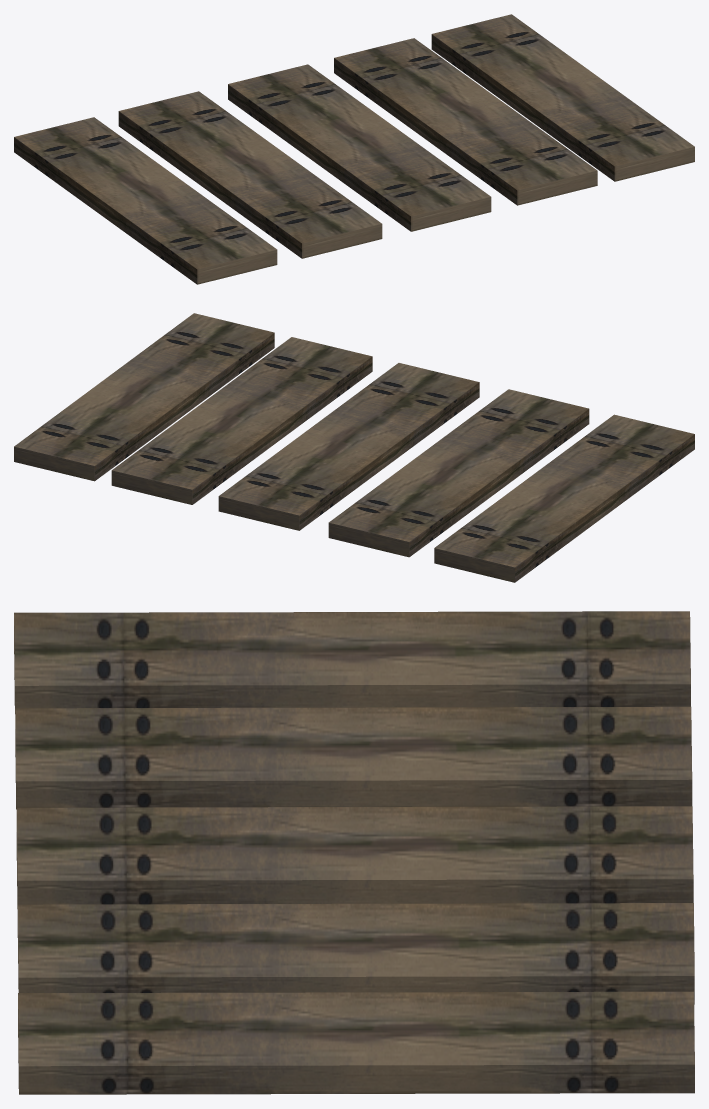
The model's file is Rail_wood.fbx.
3 views of the same model, one above another, from view 1: azimuth 30°, elevation 25°; view 2: azimuth 150°, elevation 25°; view 3: azimuth 270°, elevation 25° (orthographic). The views are drawn at different scales.
Parts seen in each view (by area): view 1: Boss1.020; view 2: Boss1.020; view 3: Boss1.020.
Boxes of the visible parts, box(x1,y1,x2,y2) form: Boss1.020: box(14, 14, 694, 284); Boss1.020: box(14, 313, 694, 582); Boss1.020: box(14, 611, 694, 1094).
Bounding box in the file's own units: 14.01 × 0.4093 × 8.86.
